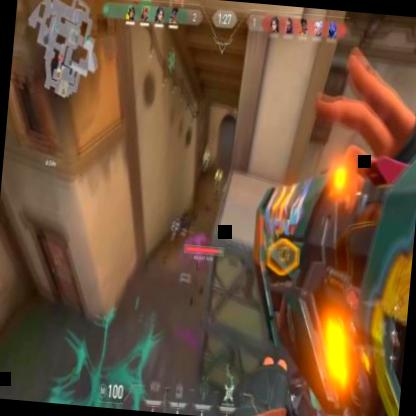enemy: (212, 166, 223, 202), (202, 146, 211, 172)
enemy_head: (216, 168, 220, 177), (205, 147, 209, 154)
